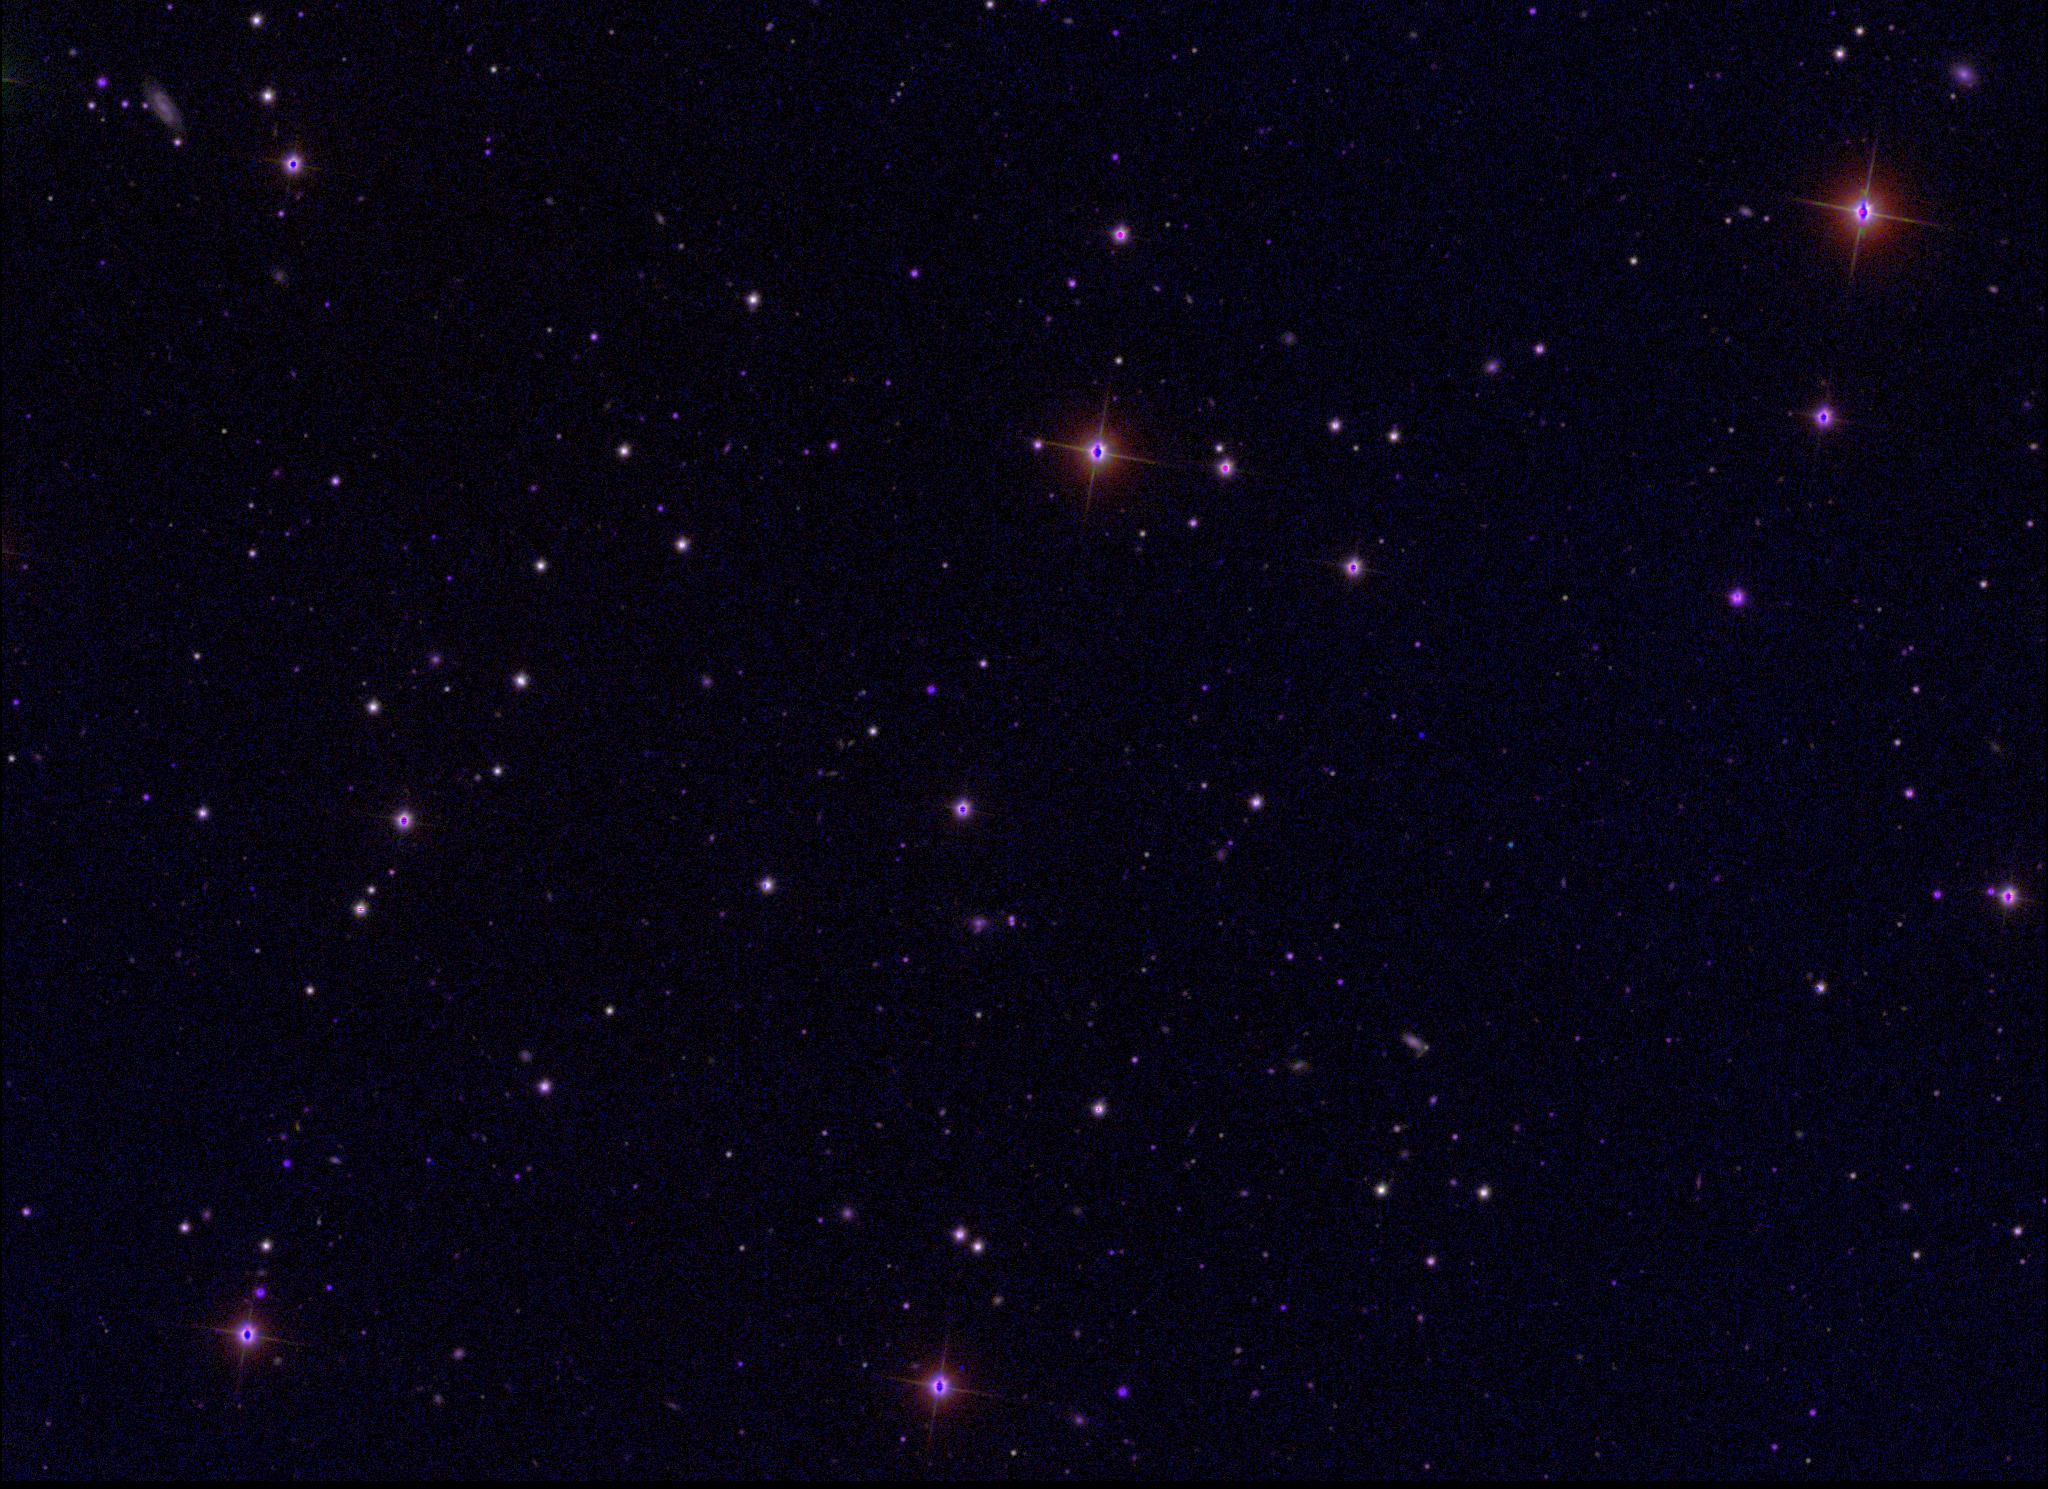L: (1415, 729, 1429, 741)
